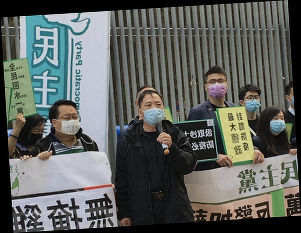with_mask: (141, 99, 166, 128), (56, 110, 80, 136), (206, 75, 227, 100), (243, 93, 262, 113), (28, 126, 46, 146), (270, 114, 285, 136)
